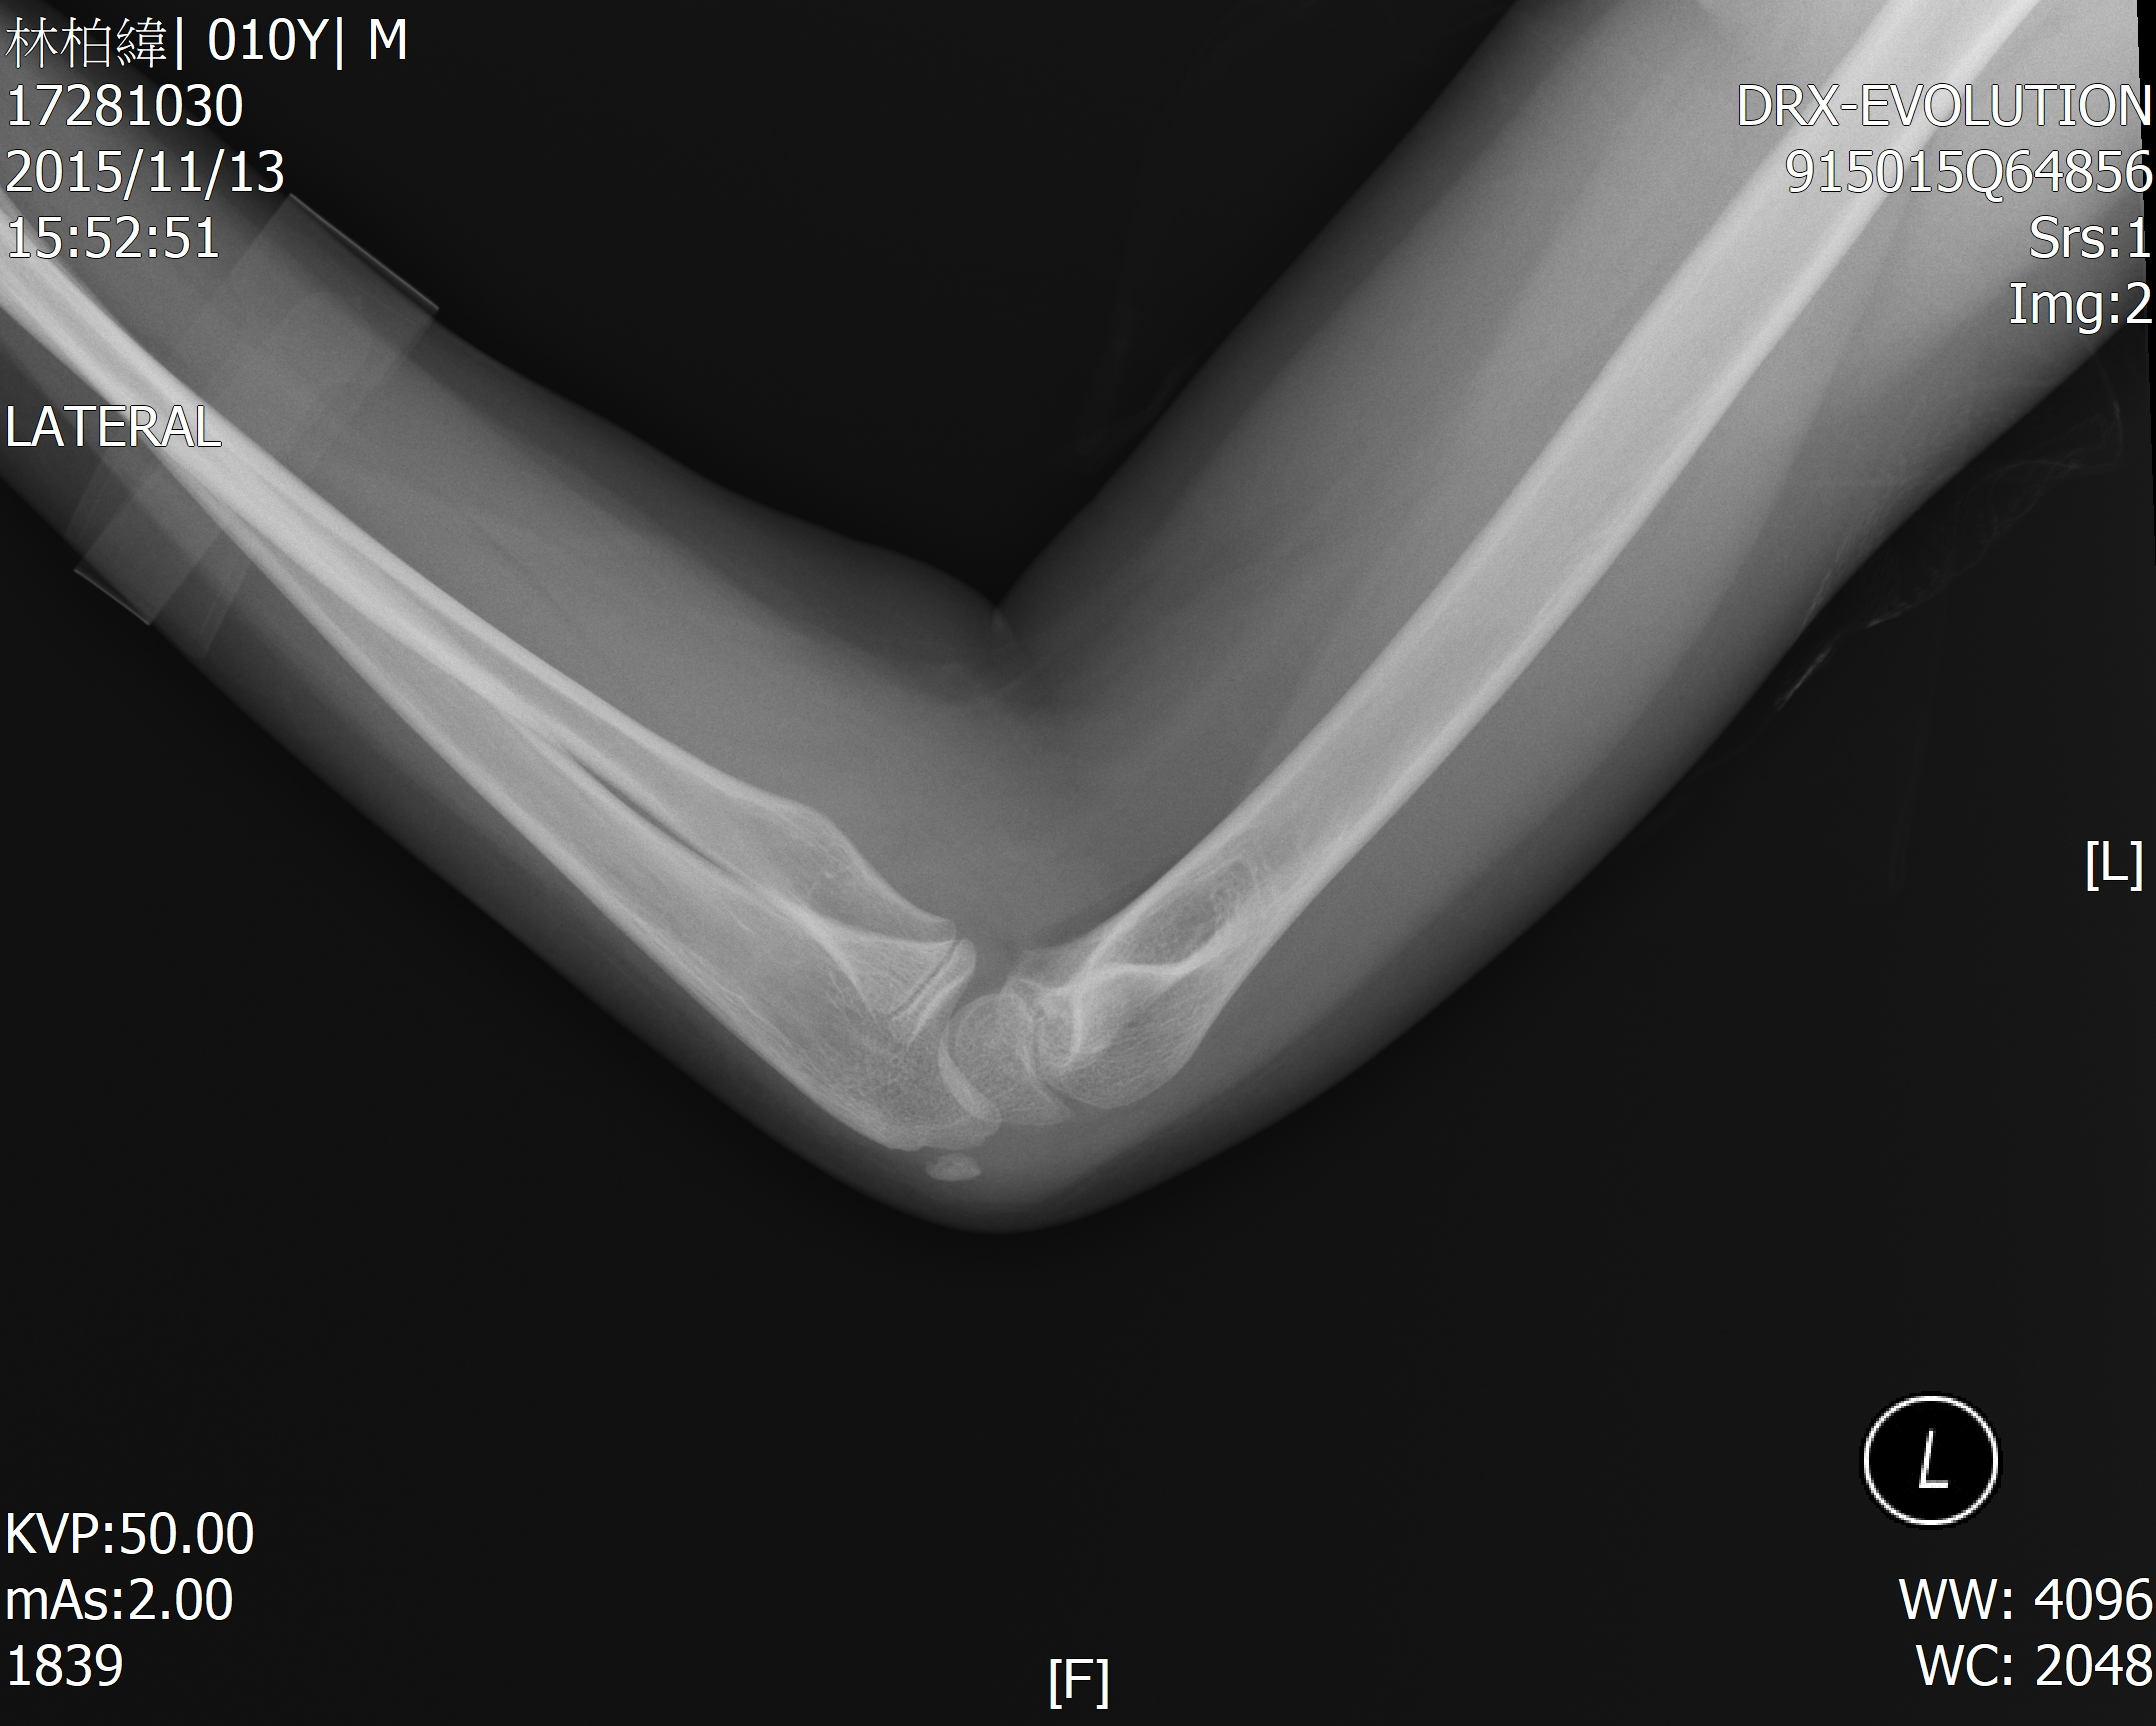Normal: (689, 678, 1372, 1331)
